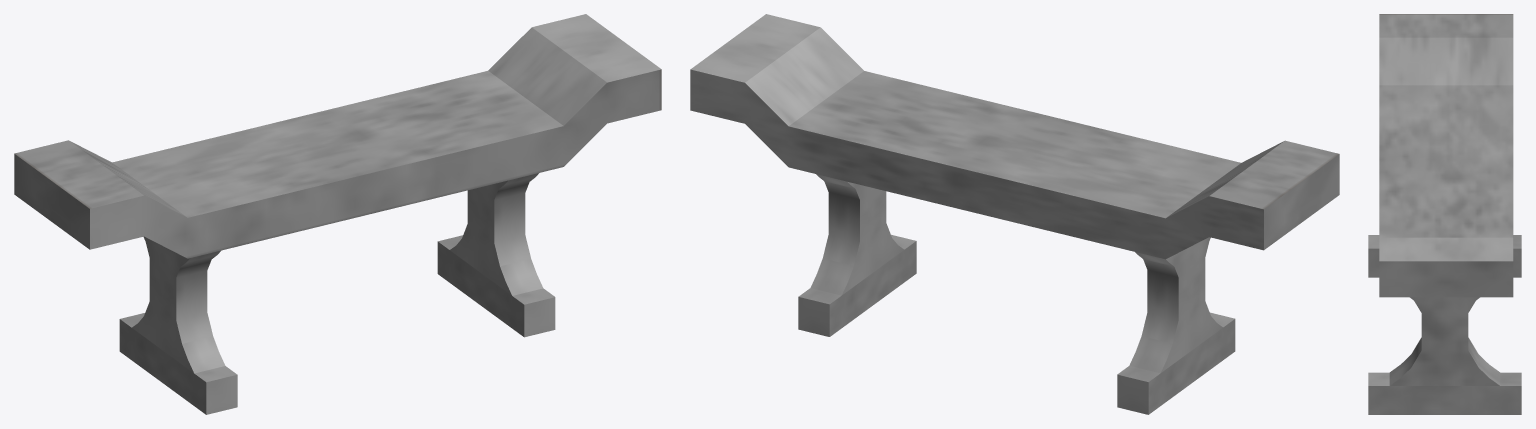
The model's file is BancoPedraLOD0.fbx.
The picture shows the model from 3 angles, left to right: view 1: azimuth 30°, elevation 25°; view 2: azimuth 150°, elevation 25°; view 3: azimuth 270°, elevation 25°; orthographic projection. The views are drawn at different scales.
Parts seen in each view (by area): view 1: BancoDeConcreto; view 2: BancoDeConcreto; view 3: BancoDeConcreto.
Boxes of the visible parts, box(x1,y1,x2,y2) form: BancoDeConcreto: box(14, 14, 661, 414); BancoDeConcreto: box(690, 14, 1339, 414); BancoDeConcreto: box(1368, 14, 1521, 414).
Size of the model in its own units: 142 by 54.17 by 37.2.
